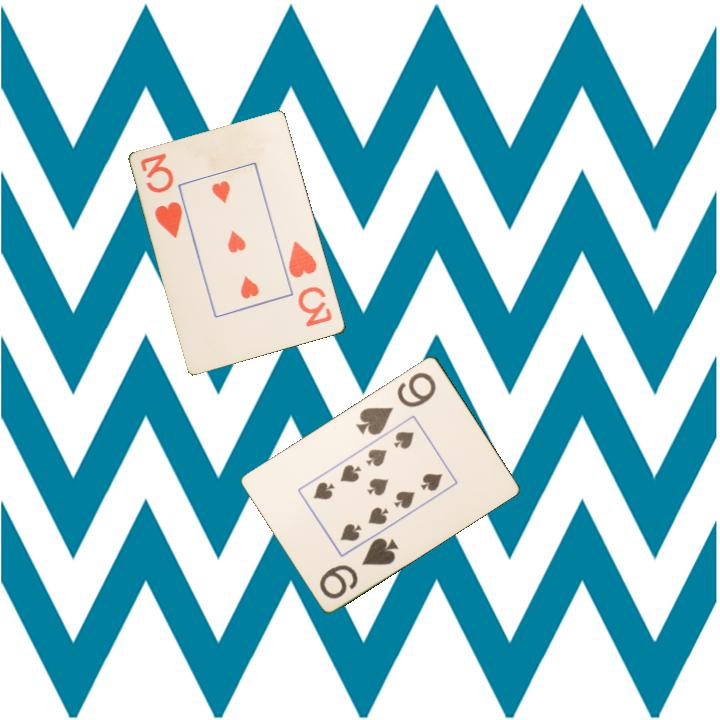3h: (285, 238, 335, 330), (137, 150, 186, 241)
9s: (352, 368, 439, 438), (316, 533, 402, 602)
